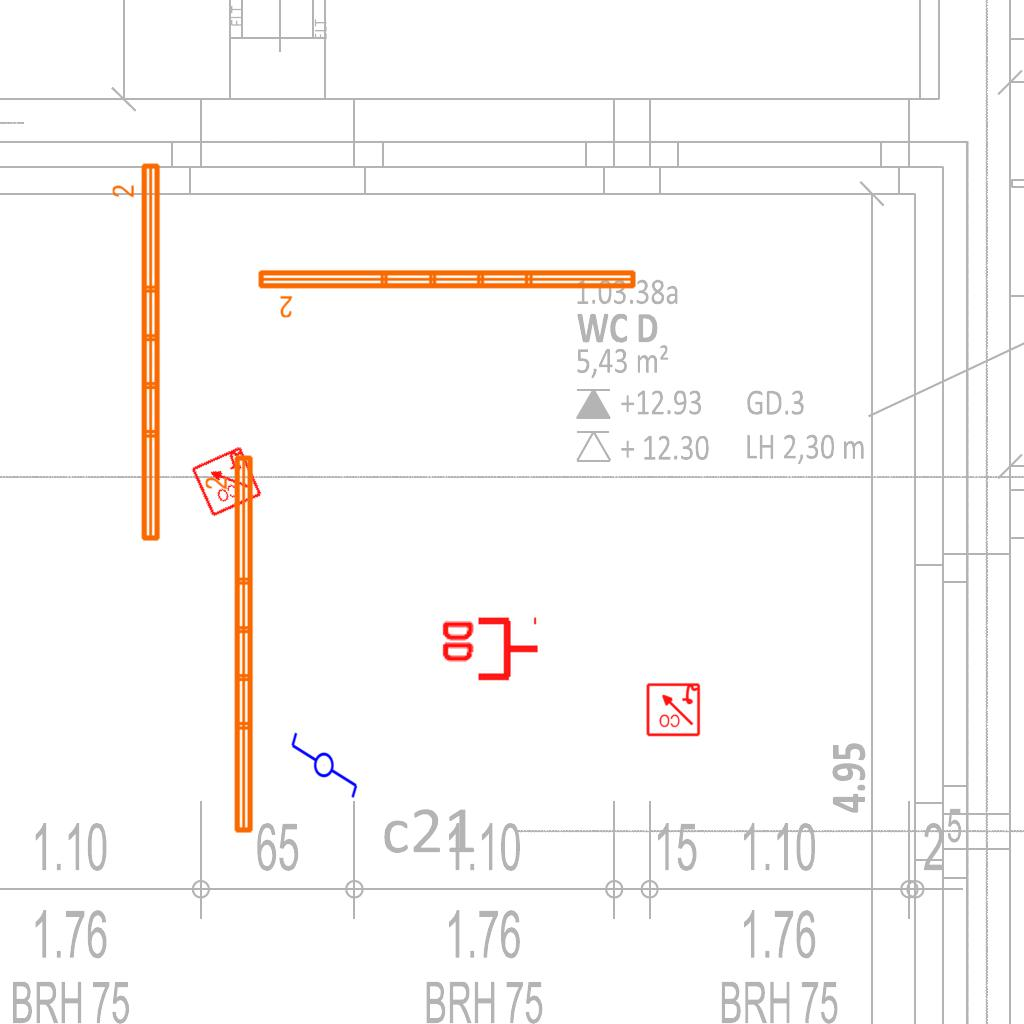Ambulanz_Pendelleuchte_LED: (110, 159, 166, 546), (254, 264, 641, 320), (203, 451, 259, 838)
Datenanschluss_zweifach: (438, 616, 541, 685)
ROA_Rauchmelder_optisch_mit_Signalgeber_(Sockelsirene): (189, 444, 263, 518), (645, 681, 701, 737)
Wechselschalter: (289, 722, 361, 800)
